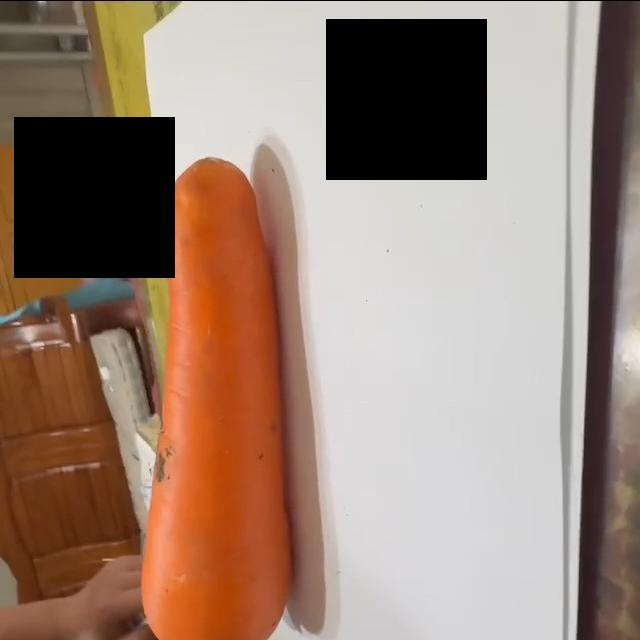carrot: (140, 153, 293, 640)
